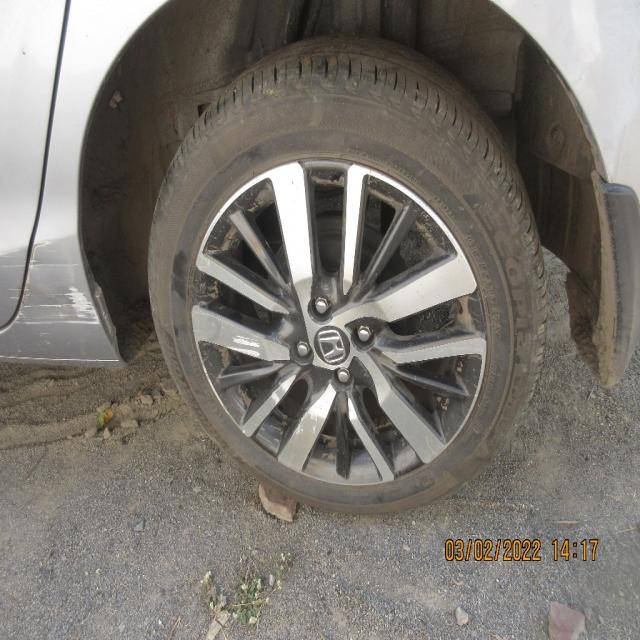damage: (59, 280, 102, 336)
